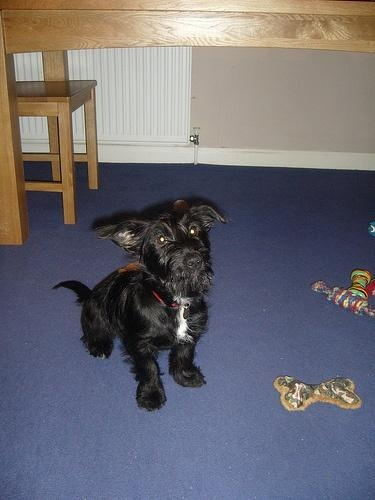chair: (12, 81, 101, 226)
dog: (54, 200, 232, 412)
